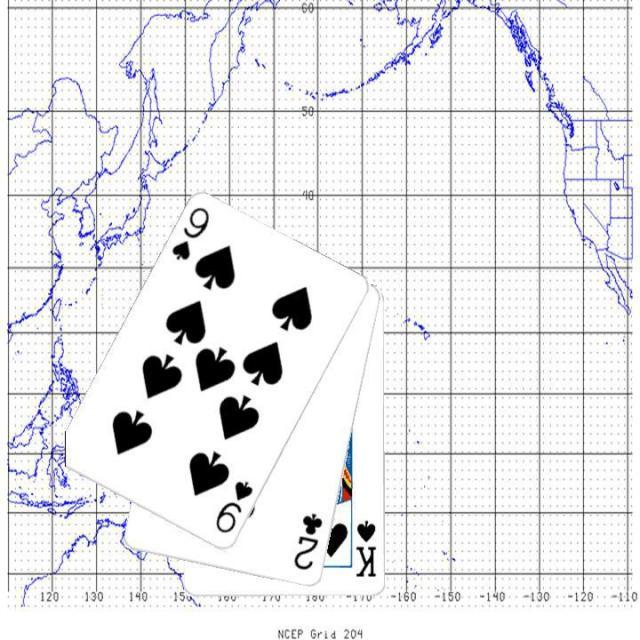2C: (290, 510, 324, 573)
9S: (168, 204, 212, 264), (212, 477, 256, 535)
KS: (353, 517, 379, 580)
